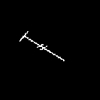treble_crochet: (20, 32, 63, 60)
